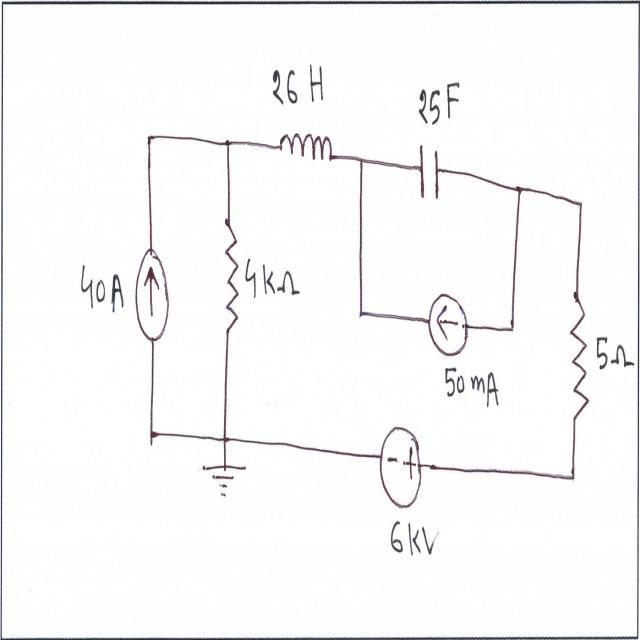capacitor: (416, 139, 441, 207)
current_source: (134, 243, 171, 347), (424, 291, 476, 362)
ground: (201, 458, 248, 503)
inductor: (276, 129, 336, 170)
resistor: (566, 282, 590, 430), (220, 210, 243, 351)
voltage_source: (376, 413, 429, 517)
